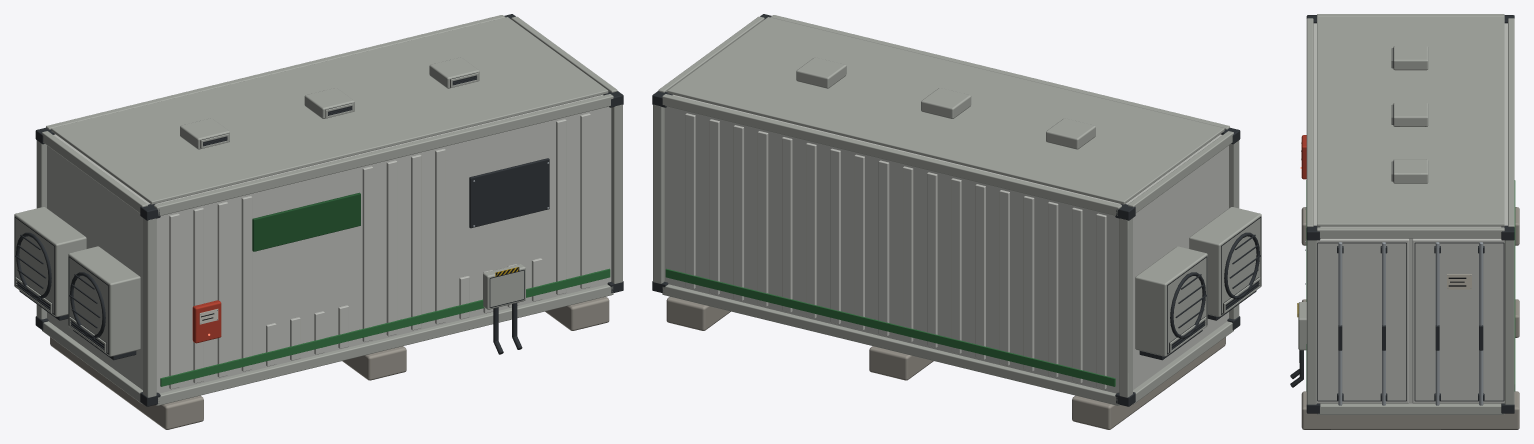
File: py_bess.glb
3 renders of one model, left to right at view 1: azimuth 30°, elevation 25°; view 2: azimuth 150°, elevation 25°; view 3: azimuth 270°, elevation 25°, orthographic. The views are drawn at different scales.
Visible parts, largest first — view 1: block.004, block.129, block.010, block.115, block.006, block.101, block.063, block.061, block.064, block.016, block.001, block.022 (+24 smaller); view 2: block.004, block.129, block.009, block.005, block.101, block.115, block.062, block.013, block.001, block.019, block.028, block.039 (+28 smaller); view 3: block.129, block.086, block.075, block.003, block.004, block.012, block.008, block.022, block.019, block.010, block.009, block.148 (+14 smaller).
Part boxes in pixels (x1,y1,x2,y2): block.004: [47, 94, 611, 393]; block.129: [51, 17, 608, 204]; block.010: [154, 94, 613, 215]; block.115: [68, 246, 140, 356]; block.006: [156, 284, 613, 405]; block.101: [14, 207, 86, 316]; block.063: [469, 158, 549, 228]; block.061: [160, 268, 610, 386]; block.064: [252, 192, 360, 251]; block.016: [143, 218, 156, 397]; block.001: [50, 337, 203, 429]; block.022: [611, 104, 622, 283]; block.004: [664, 94, 1228, 393]; block.129: [667, 17, 1224, 204]; block.009: [662, 94, 1121, 215]; block.005: [662, 284, 1119, 405]; block.101: [1135, 246, 1207, 356]; block.115: [1189, 207, 1261, 316]; block.062: [665, 268, 1115, 386]; block.013: [1119, 218, 1132, 397]; block.001: [1072, 337, 1225, 429]; block.019: [653, 104, 664, 283]; block.028: [1023, 196, 1034, 371]; block.039: [757, 131, 768, 306]; block.129: [1317, 16, 1504, 226]; block.086: [1317, 238, 1408, 403]; block.075: [1412, 238, 1504, 403]; block.003: [1301, 391, 1519, 429]; block.004: [1313, 23, 1507, 403]; block.012: [1317, 227, 1504, 238]; block.008: [1317, 403, 1504, 414]; block.022: [1306, 240, 1316, 404]; block.019: [1504, 240, 1514, 404]; block.010: [1306, 18, 1313, 227]; block.009: [1508, 18, 1514, 226]; block.148: [1393, 159, 1428, 183].
Size of what is drawn, in the model's own units: 6.64 by 2.9 by 2.74.
